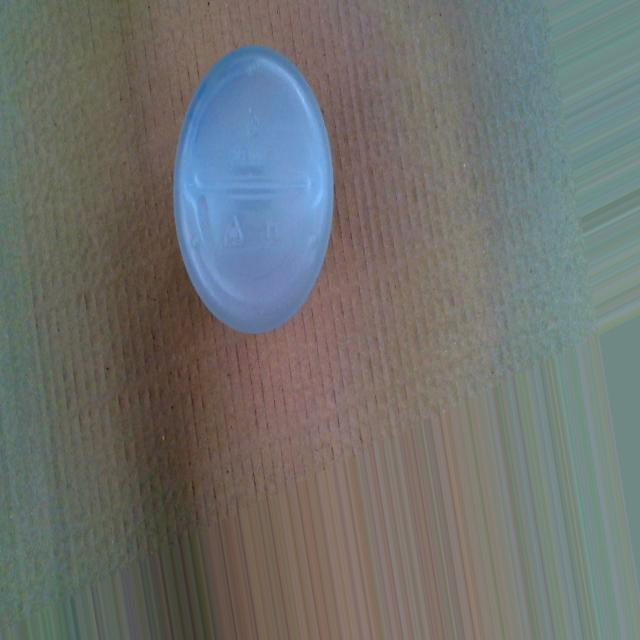bottle: (170, 36, 340, 341)
